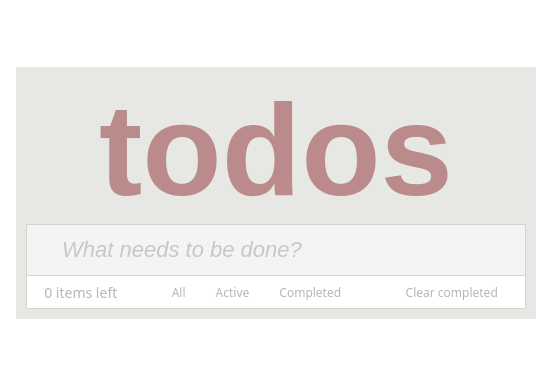
Test: Todo App › очистка выполненных задач
Type "Задача 1" into the field with placeholder "What needs to be done?" at (276, 250), box [27,225,525,275]
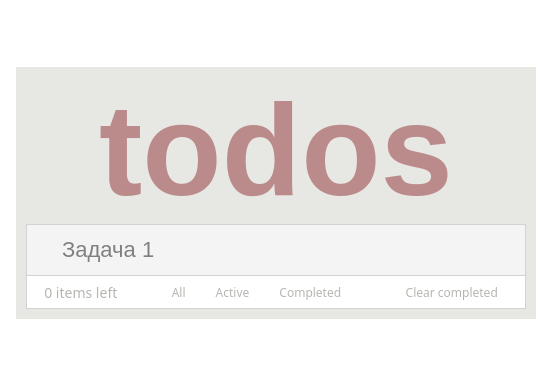
Press Enter in the field with placeholder "What needs to be done?", box [27,225,525,275]
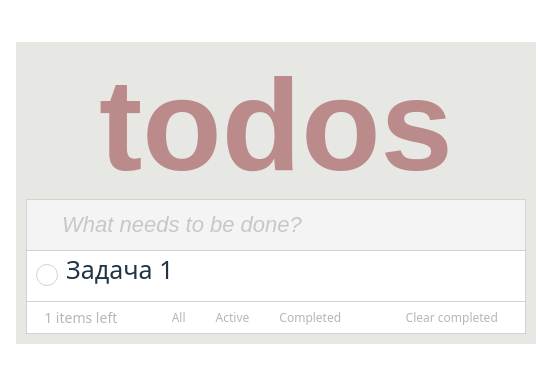
Type "Задача 2" into the field with placeholder "What needs to be done?" at (276, 225), box [27,200,525,250]
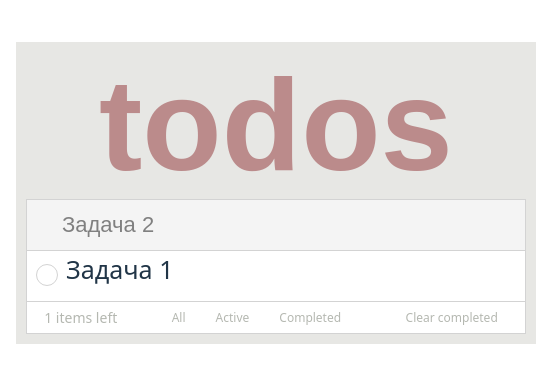
Press Enter in the field with placeholder "What needs to be done?", box [27,200,525,250]
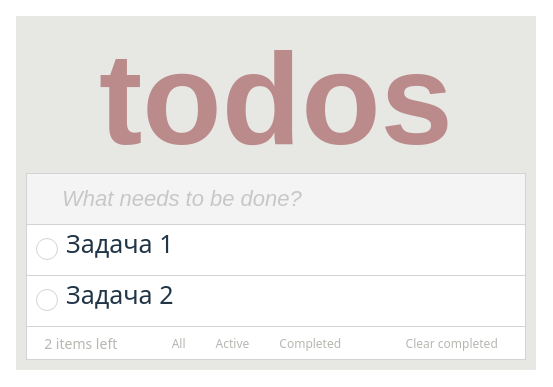
Click the text "Задача 1" at (120, 243), box [66,226,173,260]
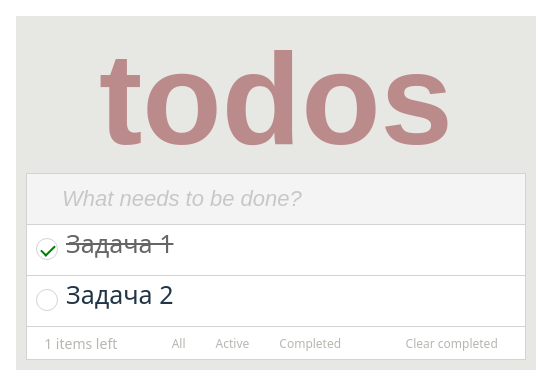
Click the button "Clear completed" at (452, 343), box [396,327,508,359]
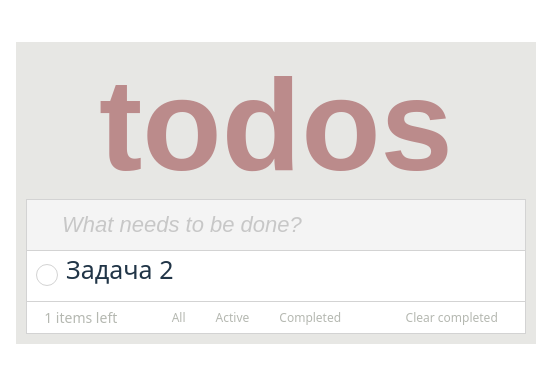
Check: the text "Задача 2" is shown, box [66,252,173,286]
Check: the text "Задача 1" is gone
